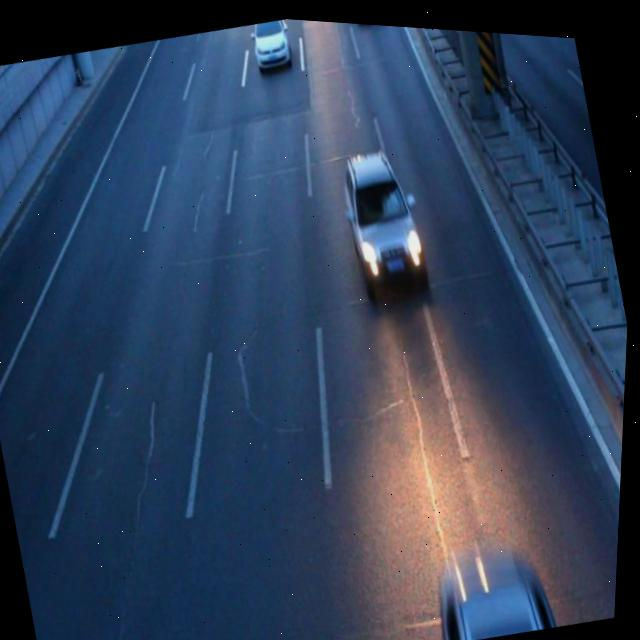car: (331, 139, 435, 294), (433, 534, 564, 640), (247, 13, 293, 67)
